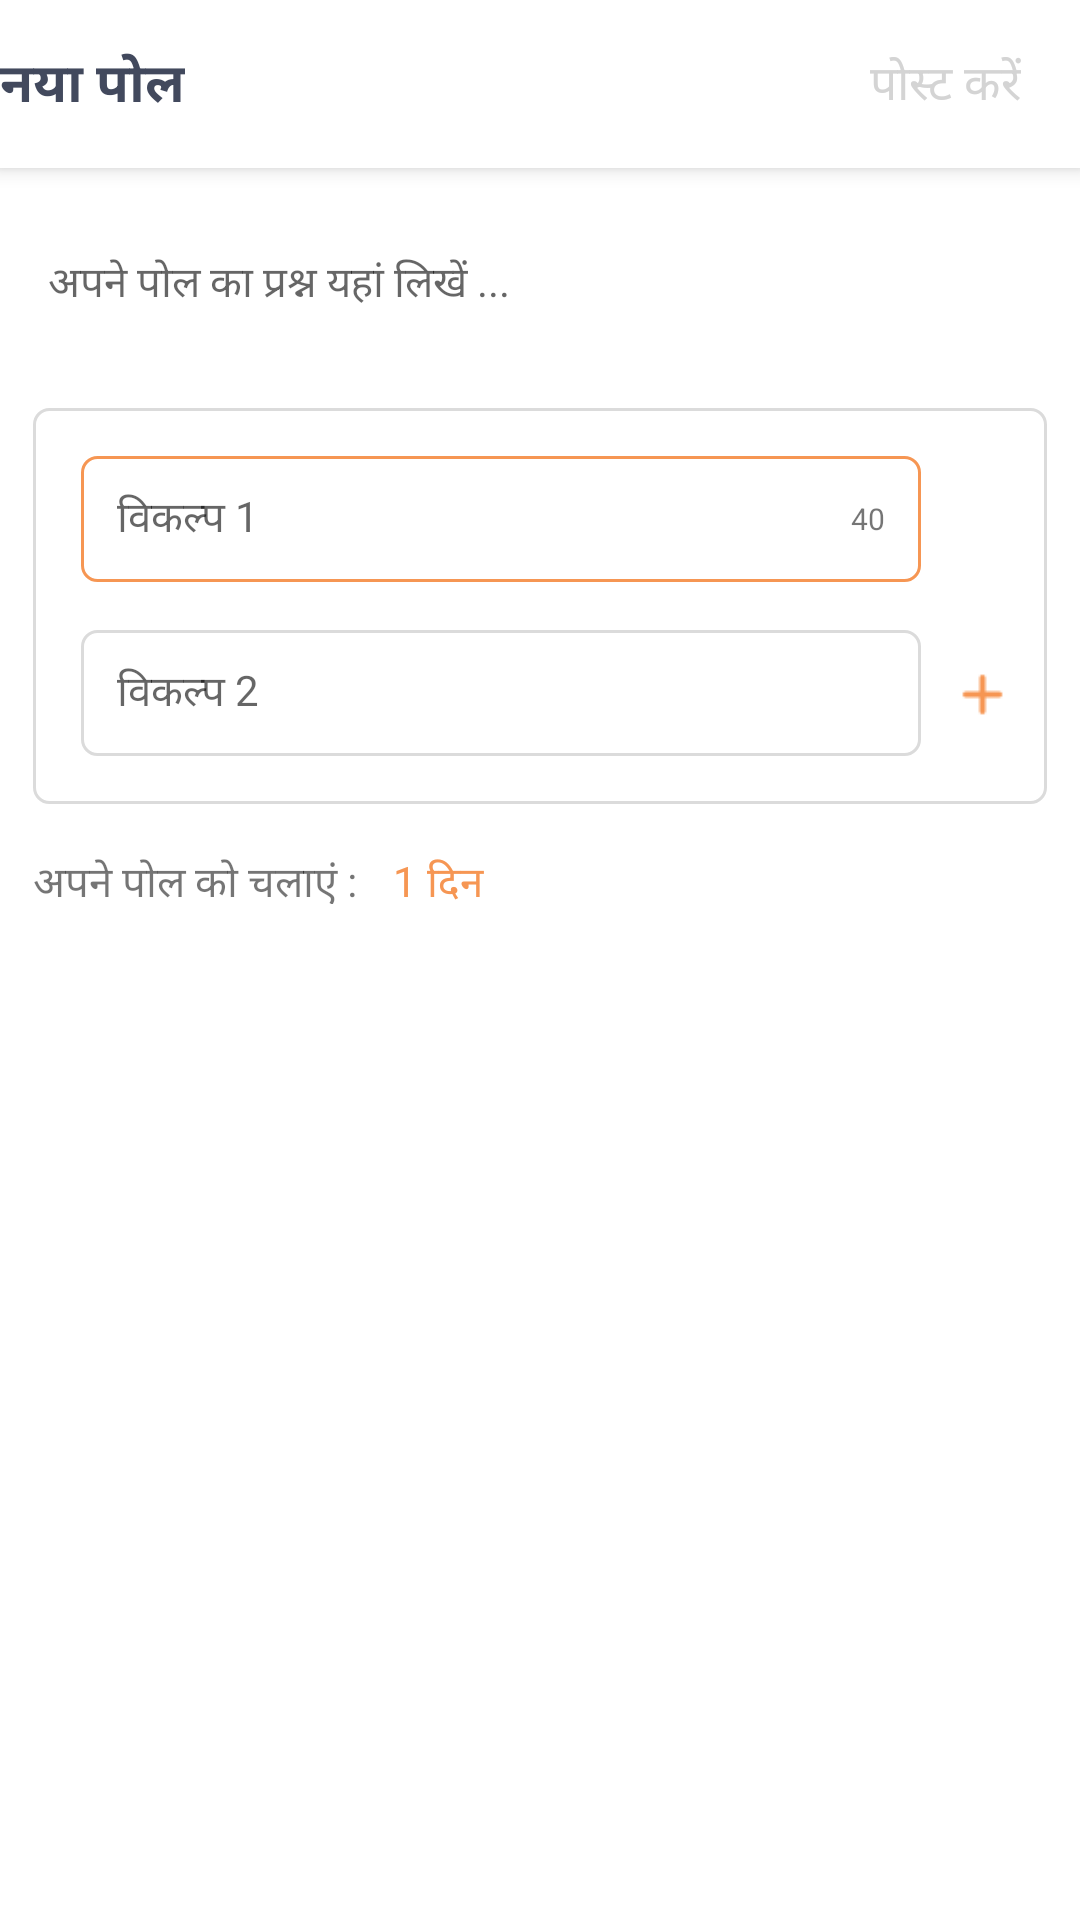

Screen size 1080w x 1920h. Icon name, then its box in pixels as bbox(x1, y1, x2, y2):
add option: bbox(962, 674, 1003, 715)
